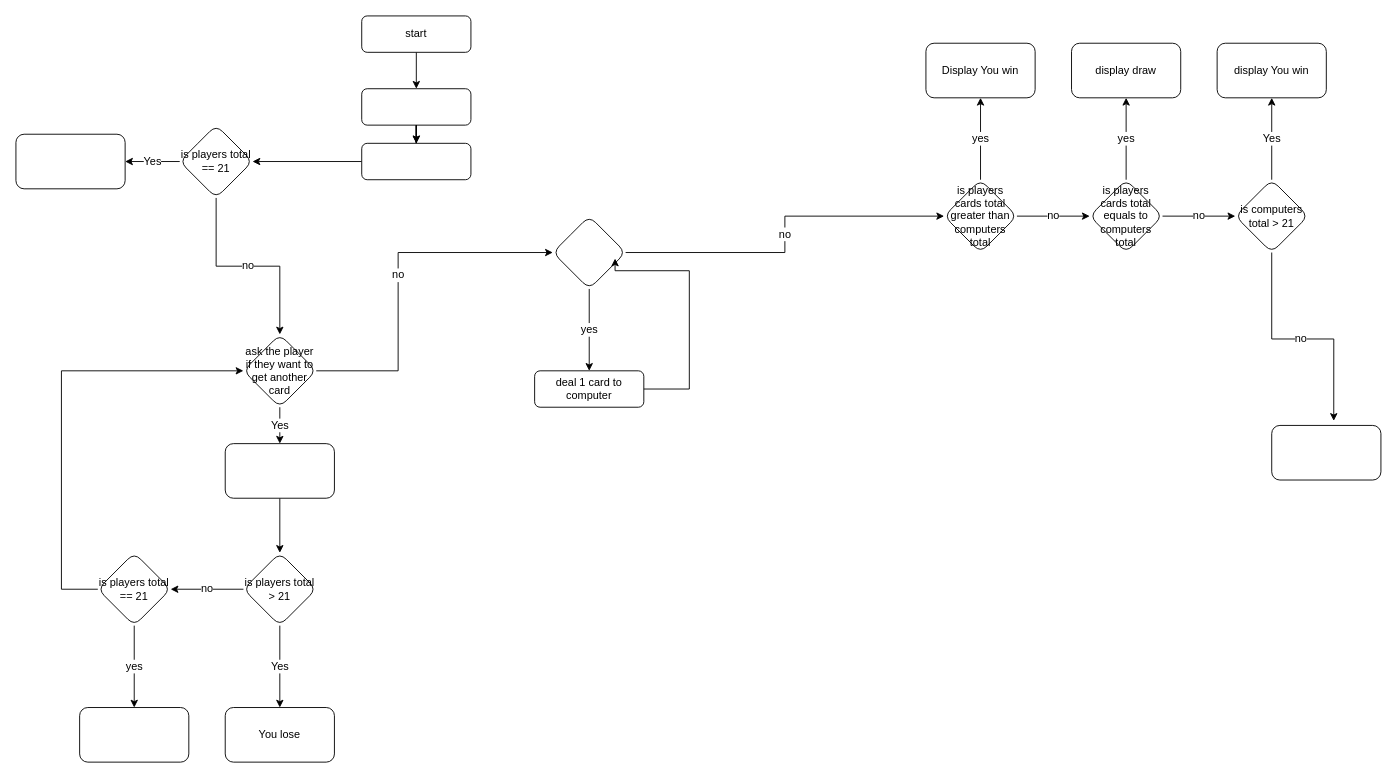
This 1397x778 diagram has some shape labels left out. Here are the shapes that lost their labels. From the top down, the centre of each, then its label:
At (416,106): "deal 2 cards to player and computer each".
At (70,161): "display Black Jack, You win".
At (416,161): "display players cards and computer's first card".
At (589,252): "is computers cards total < 17".
At (279,470): "deal one card to player".
At (1326,452): "display you lose".
At (134,734): "Black jack, You win".
